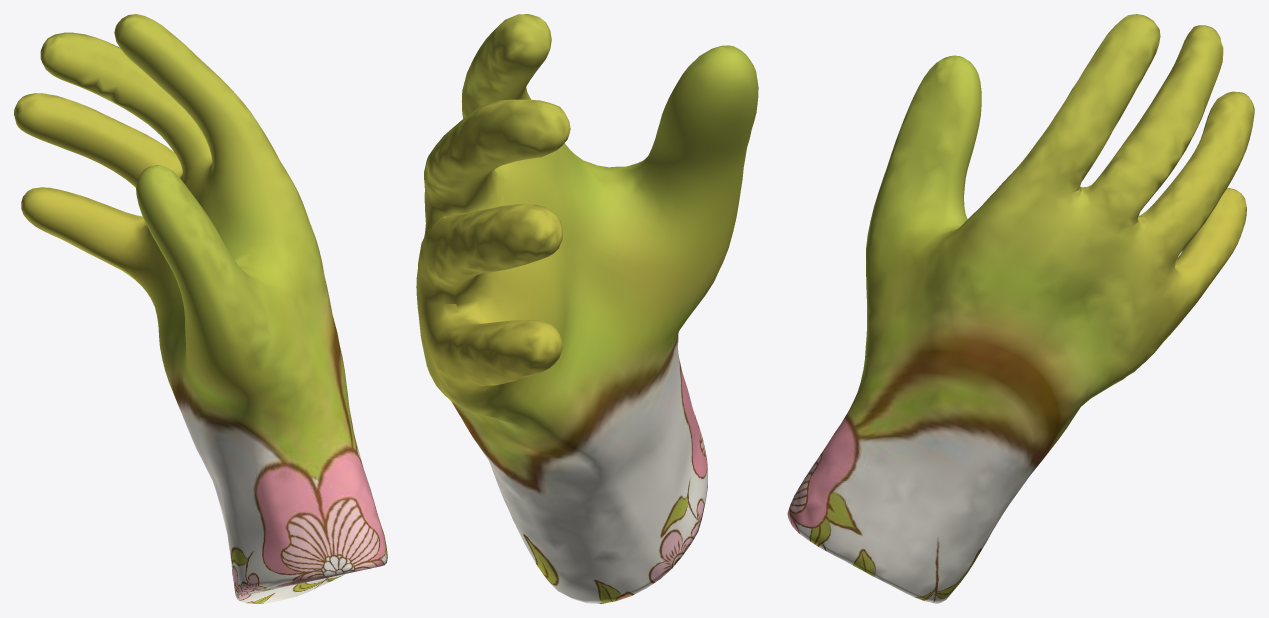
File: RightPinkGlow.fbx
The picture shows the model from 3 angles, left to right: view 1: azimuth 30°, elevation 25°; view 2: azimuth 150°, elevation 25°; view 3: azimuth 270°, elevation 25°; orthographic projection. The views are drawn at different scales.
Parts seen in each view (by area): view 1: Sketchfab Model.001; view 2: Sketchfab Model.001; view 3: Sketchfab Model.001.
Part boxes in pixels (x1,y1,x2,y2): Sketchfab Model.001: (14, 14, 387, 603); Sketchfab Model.001: (416, 14, 758, 603); Sketchfab Model.001: (787, 14, 1254, 603).
Bounding box in the file's own units: 22.84 × 57.17 × 43.7.
1 material, 1 textured.
